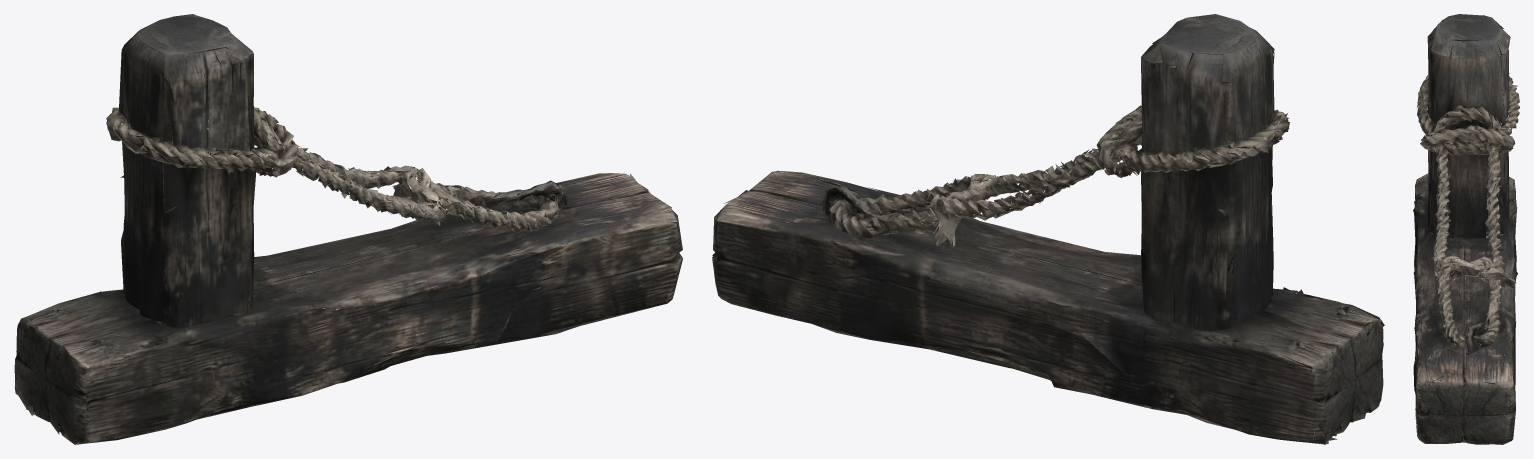
File: wharf-rope-rail-end.glb
The picture shows the model from 3 angles, left to right: view 1: azimuth 30°, elevation 25°; view 2: azimuth 150°, elevation 25°; view 3: azimuth 270°, elevation 25°; orthographic projection. The views are drawn at different scales.
Parts seen in each view (by area): view 1: Mesh_0; view 2: Mesh_0; view 3: Mesh_0.
Boxes of the visible parts, x1=… form: Mesh_0: x1=14, y1=14, x2=682, y2=444; Mesh_0: x1=712, y1=14, x2=1384, y2=444; Mesh_0: x1=1413, y1=14, x2=1519, y2=444.
Size of the model in its own units: 1.9 by 1.07 by 0.401.
1 material, 1 textured.
